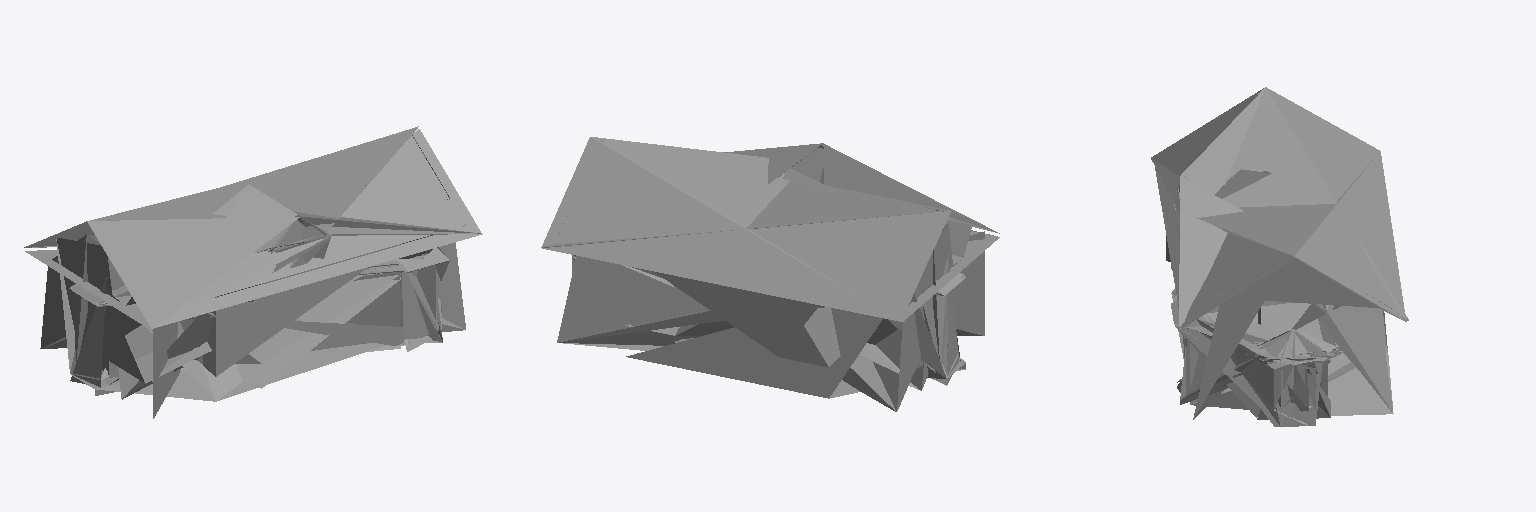
File: cottage_obj.obj
The picture shows the model from 3 angles: view 1: azimuth 30°, elevation 25°; view 2: azimuth 150°, elevation 25°; view 3: azimuth 270°, elevation 25°; orthographic projection.
Visible parts, largest first — view 1: Cube_Cube.002; view 2: Cube_Cube.002; view 3: Cube_Cube.002.
Boxes of the visible parts, <box> form: Cube_Cube.002: <box>24,126,482,418</box>; Cube_Cube.002: <box>541,137,999,411</box>; Cube_Cube.002: <box>1151,87,1408,426</box>.
Size of the model in its own units: 33.93 by 14.67 by 20.74.